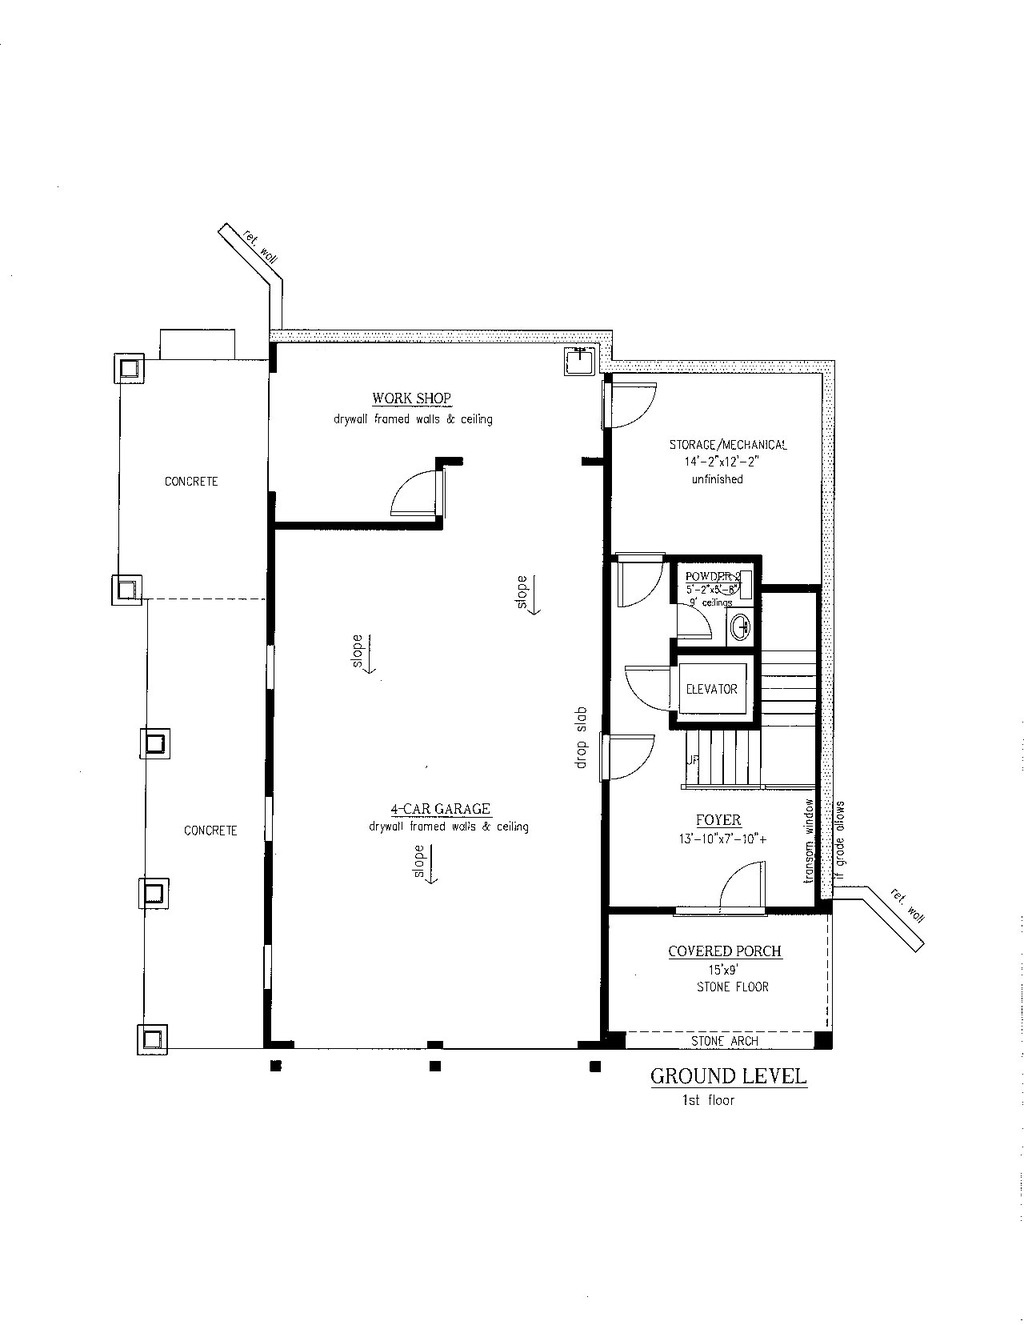door: (720, 856, 776, 915), (386, 466, 446, 521), (603, 381, 668, 431), (597, 729, 652, 783), (613, 550, 663, 605), (627, 662, 672, 712), (669, 598, 713, 642)
small_sink: (720, 602, 753, 649)
stairs: (752, 584, 824, 786), (675, 728, 758, 790)
